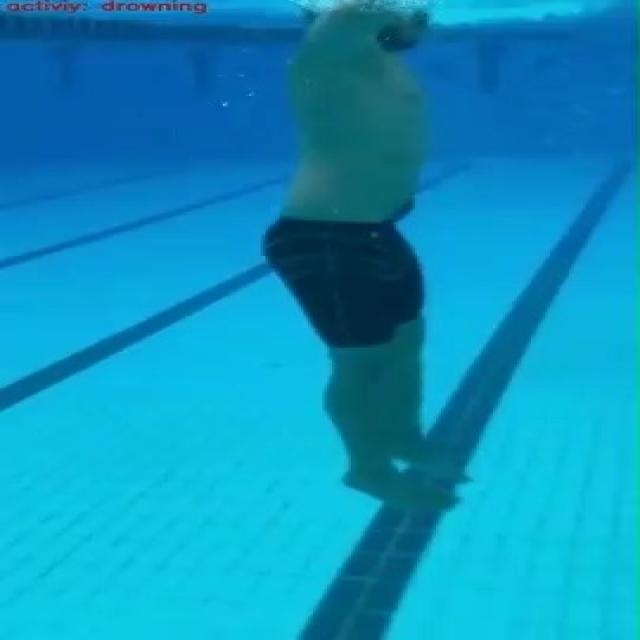Drowning: (247, 0, 538, 528)
